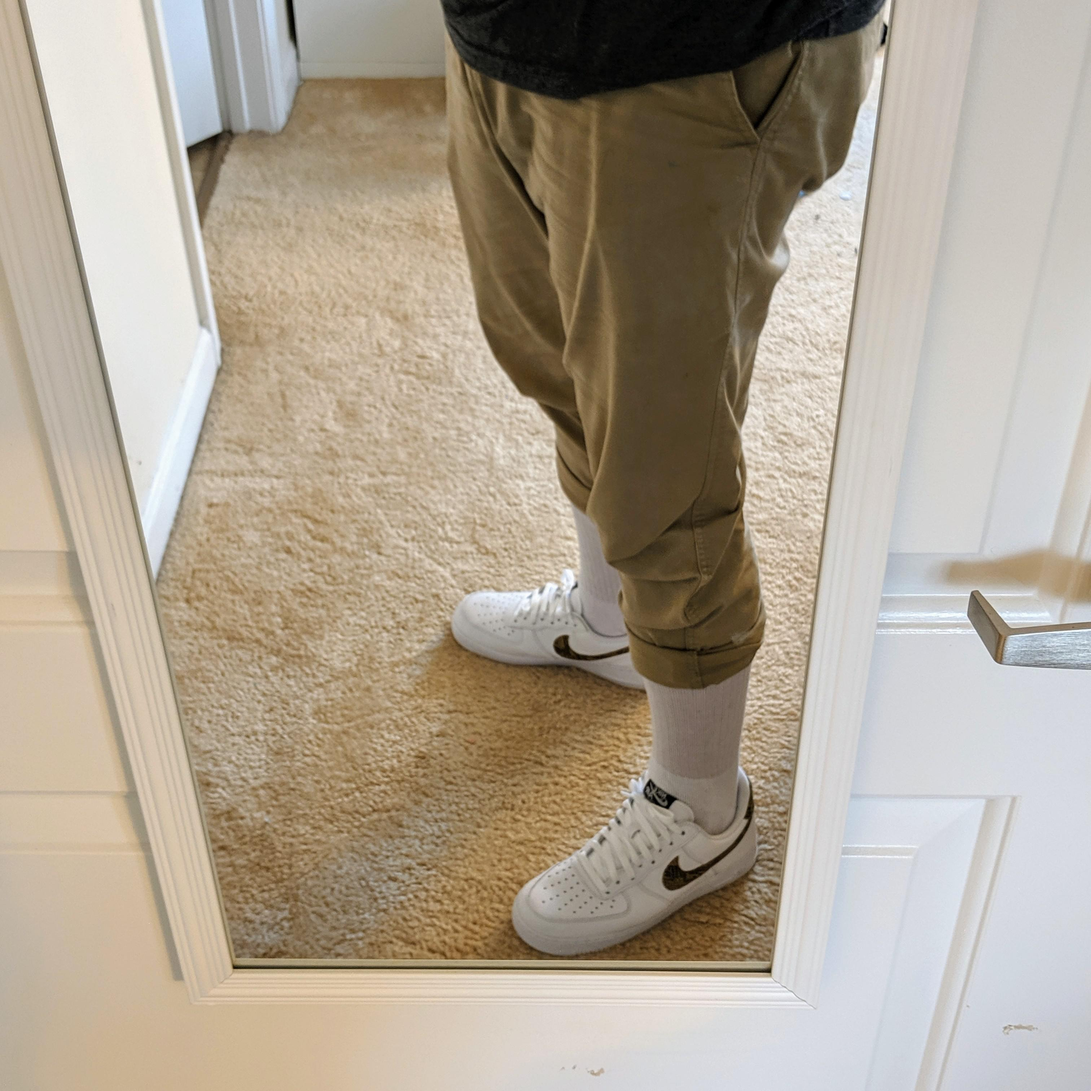sneaker: (507, 761, 760, 957), (448, 565, 650, 692)
